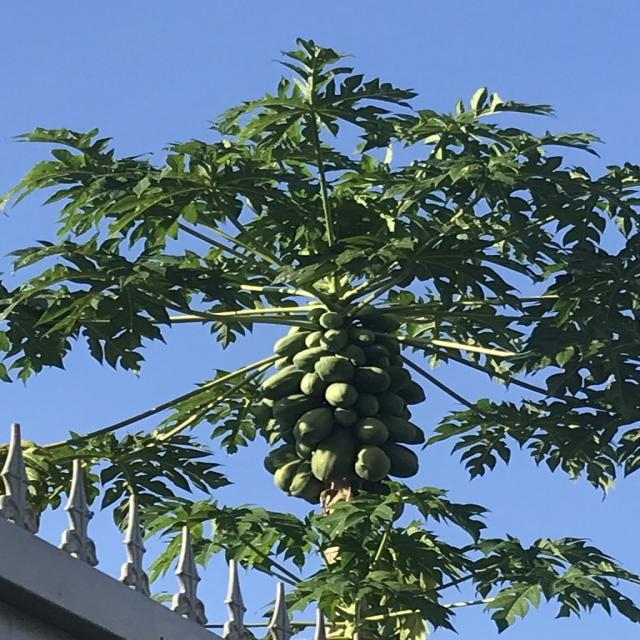Papaya-Tree: (12, 30, 640, 623)
